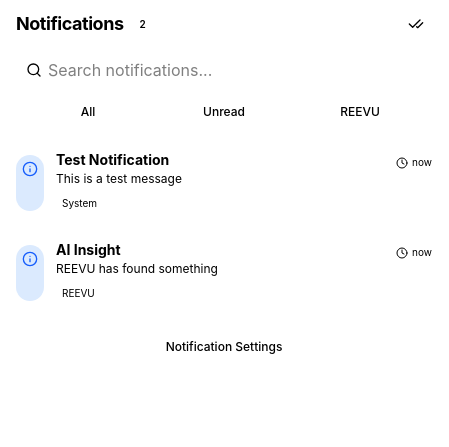
Test case: NotificationInboxPanel › displays empty state when no notifications match filters
The image size is (449, 447).
Type "non-existent" into the field with placeholder "Search notifications..." at coordinates (224, 70), box [16, 52, 432, 88]
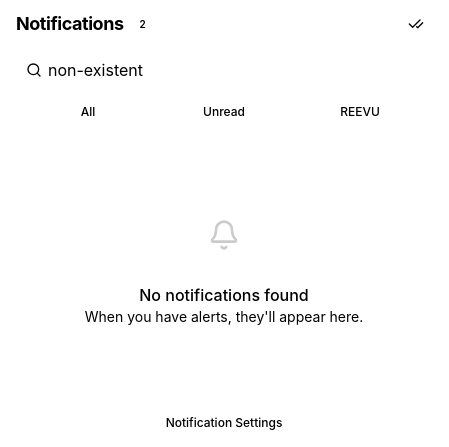
Result: the text "No notifications found" is shown at [139, 283, 309, 307]
